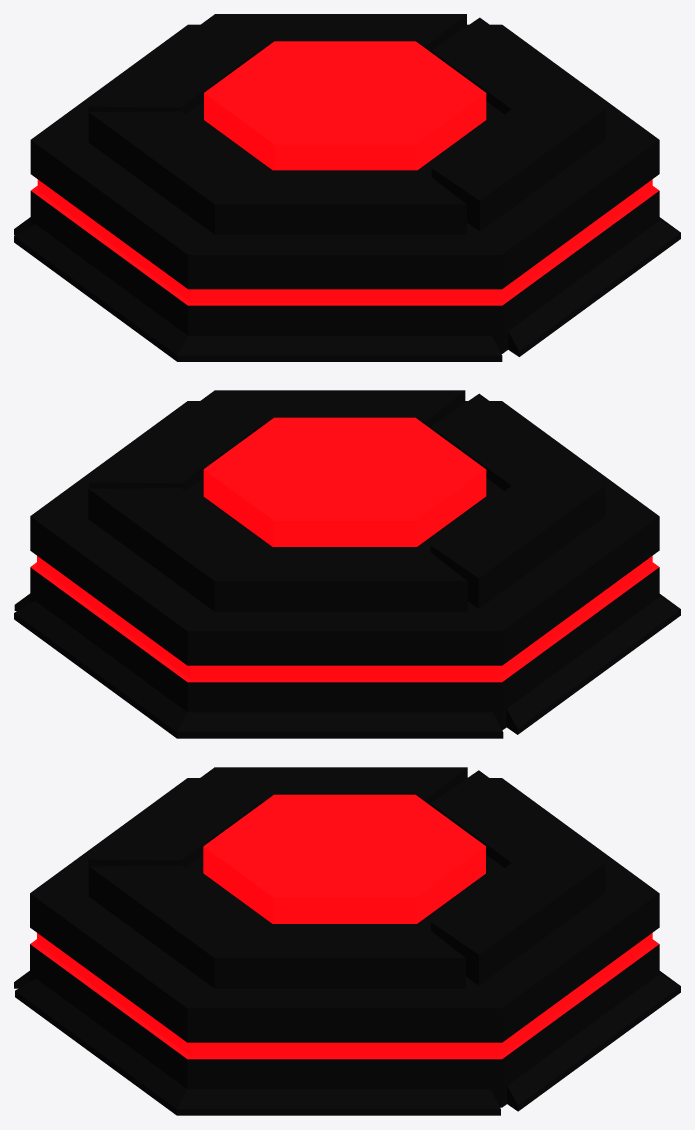
The model's file is landmine low poly sci-fi.fbx.
3 views of the same model, one above another, from view 1: azimuth 30°, elevation 25°; view 2: azimuth 150°, elevation 25°; view 3: azimuth 270°, elevation 25° (orthographic).
Parts seen in each view (by area): view 1: Cylinder.001; view 2: Cylinder.001; view 3: Cylinder.001.
Part boxes in pixels (left/top/right/bottom): Cylinder.001: left=14, top=14, right=680, bottom=361; Cylinder.001: left=14, top=390, right=680, bottom=738; Cylinder.001: left=14, top=767, right=680, bottom=1115.
Bounding box in the file's own units: 0.4371 × 0.121 × 0.5007.
